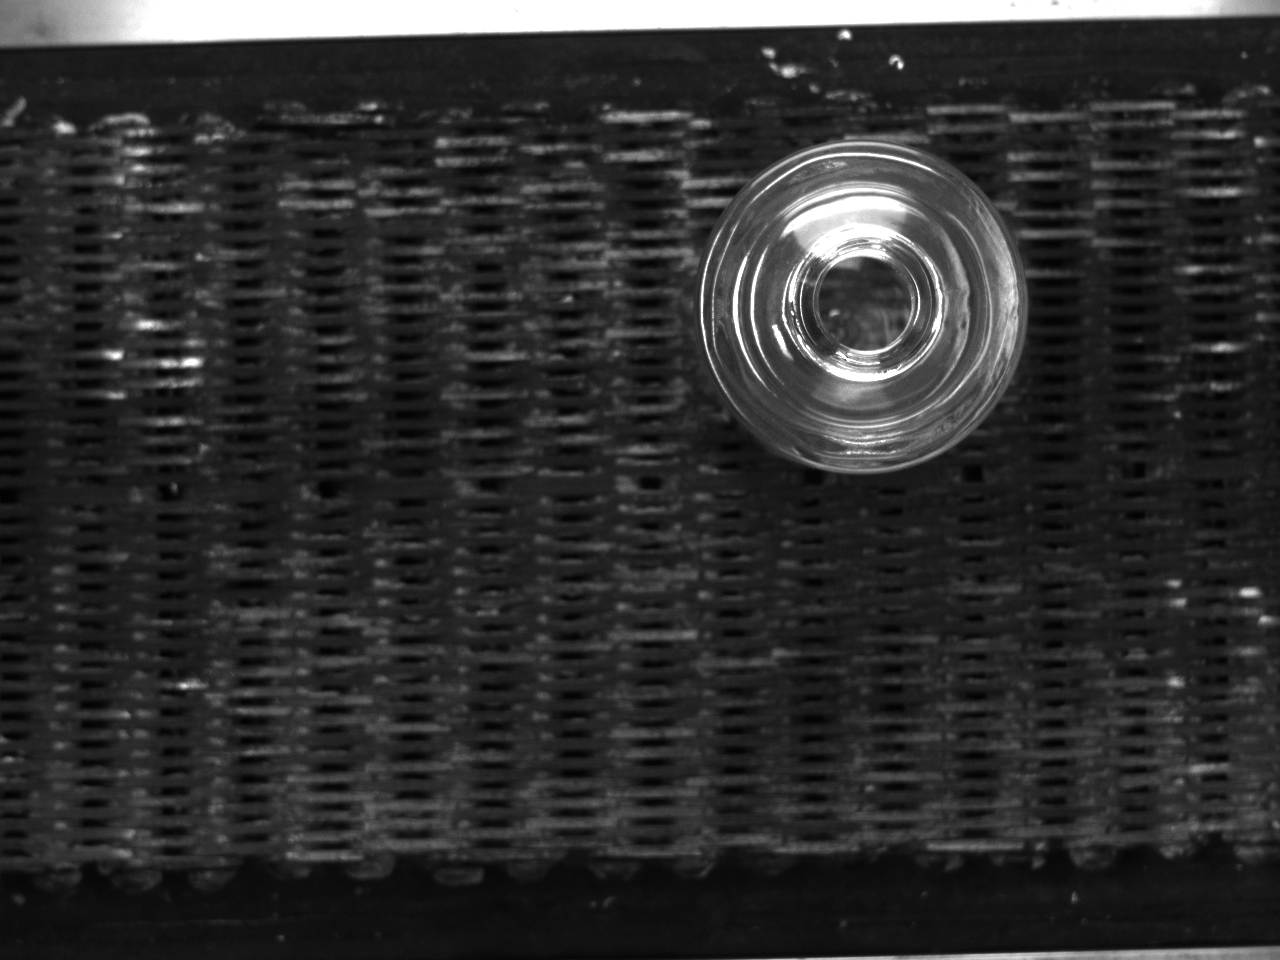bottleneck: (791, 224, 942, 382)
